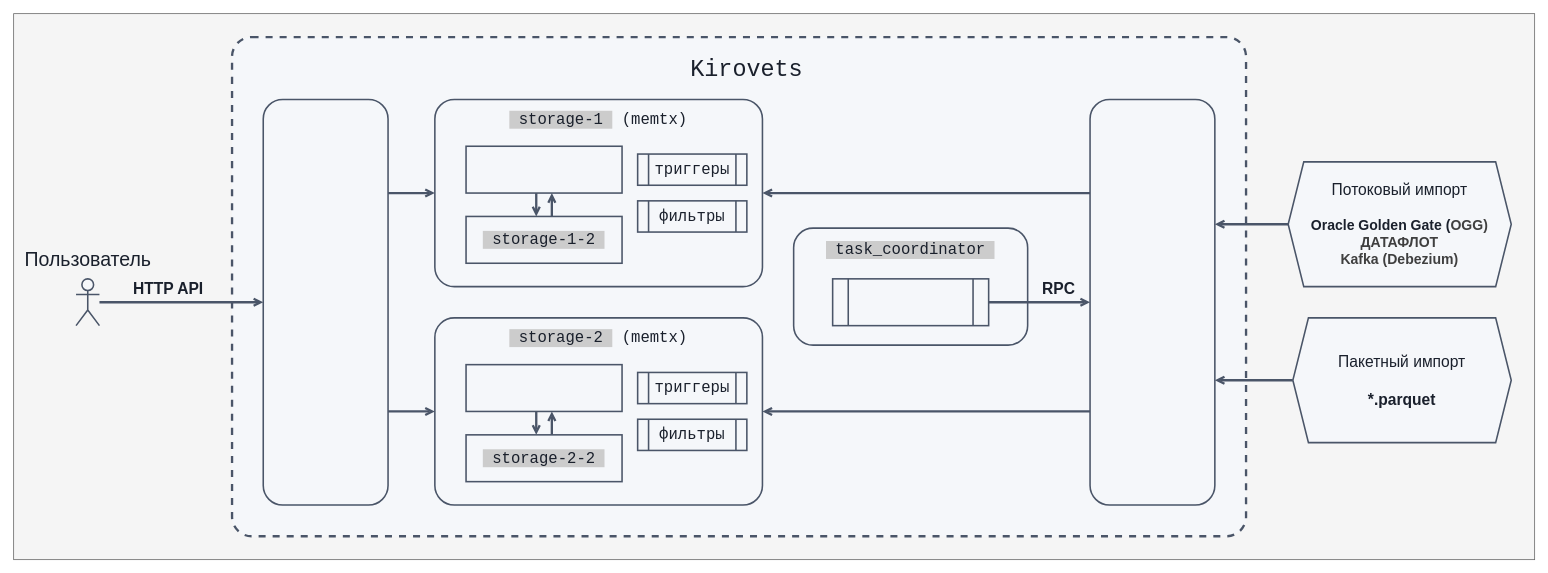
Image size: 1548x573. Some labels were removed from this diagram. The centre of each missing label's shape, as x and y in pixels:
importer: the point at 1152,301
router: the point at 325,301
storage-1-1: the point at 543,169
storage-2-1: the point at 543,387
Планировщик задач: the point at 910,302
